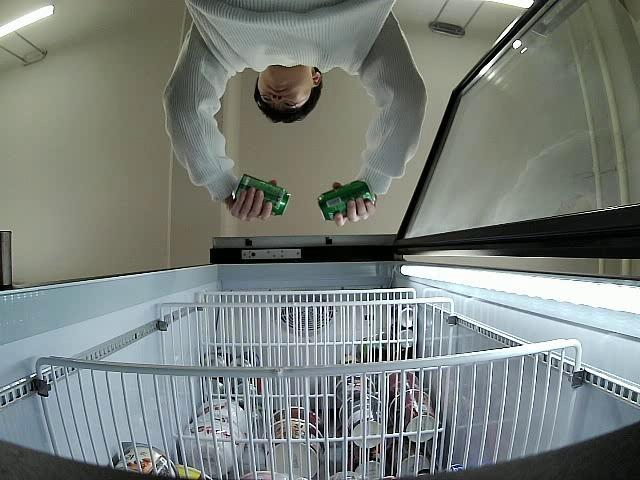12_chilsungCider: (234, 172, 292, 216), (317, 180, 374, 222)
